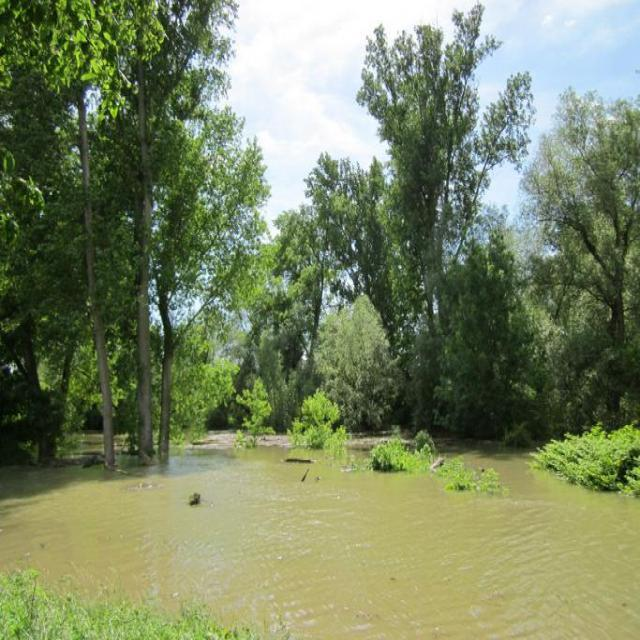flood: (3, 407, 640, 640)
